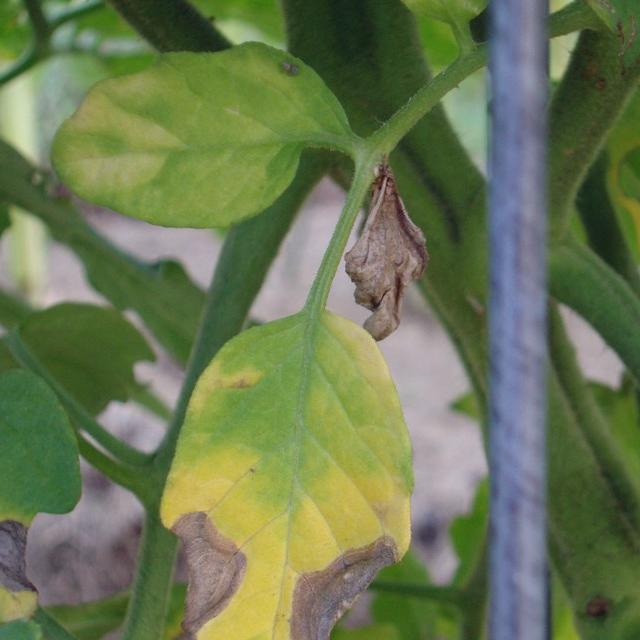Tomato Early blight leaf: (171, 302, 421, 640)
